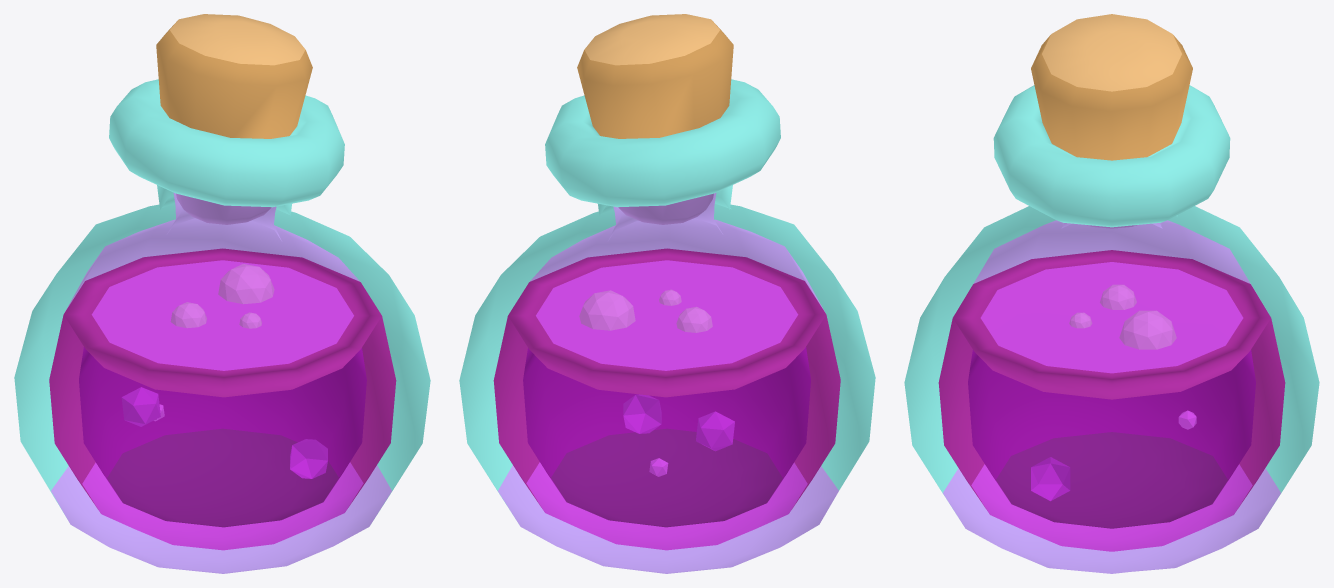
The picture shows the model from 3 angles, left to right: view 1: azimuth 30°, elevation 25°; view 2: azimuth 150°, elevation 25°; view 3: azimuth 270°, elevation 25°; orthographic projection.
Parts seen in each view (by area): view 1: Potion_0; view 2: Potion_0; view 3: Potion_0.
Boxes of the visible parts, x1,y1,x2,y2 form: Potion_0: (14, 14, 430, 573); Potion_0: (459, 14, 875, 573); Potion_0: (904, 14, 1319, 573).
Bounding box in the file's own units: 0.2053 × 0.2774 × 0.2051.
1 material, 1 textured.
